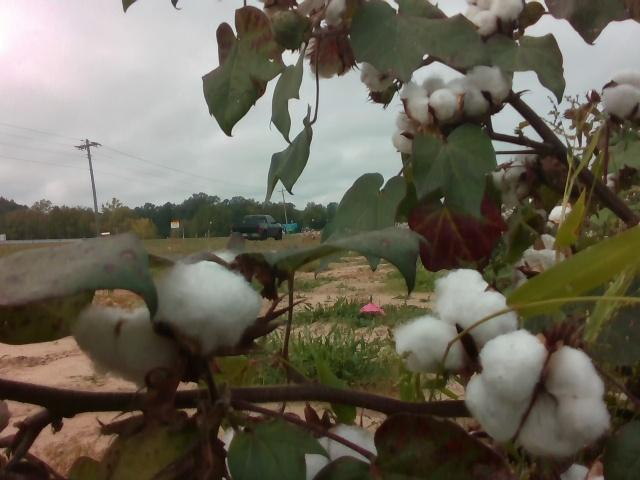cotton_ready: (466, 334, 608, 457), (156, 249, 261, 356), (67, 301, 190, 390), (436, 269, 519, 348), (395, 318, 467, 377), (401, 74, 467, 122), (456, 64, 506, 117), (465, 0, 525, 38), (604, 71, 640, 129), (391, 106, 428, 154)
